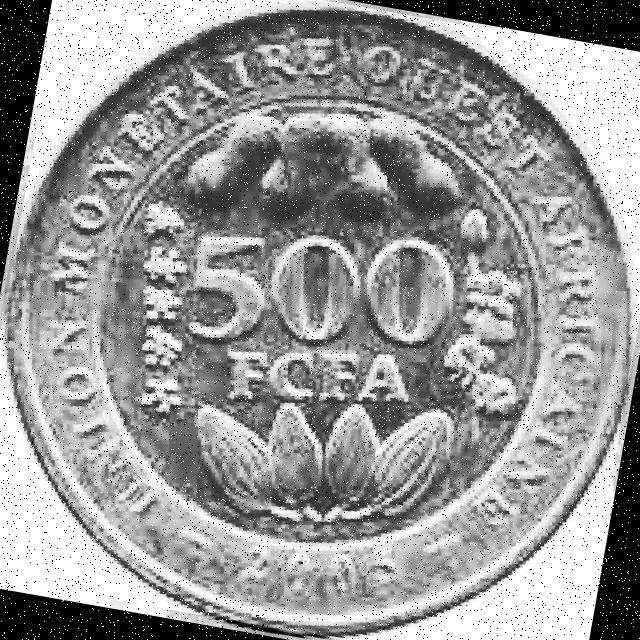teemeer: (5, 5, 630, 632)
